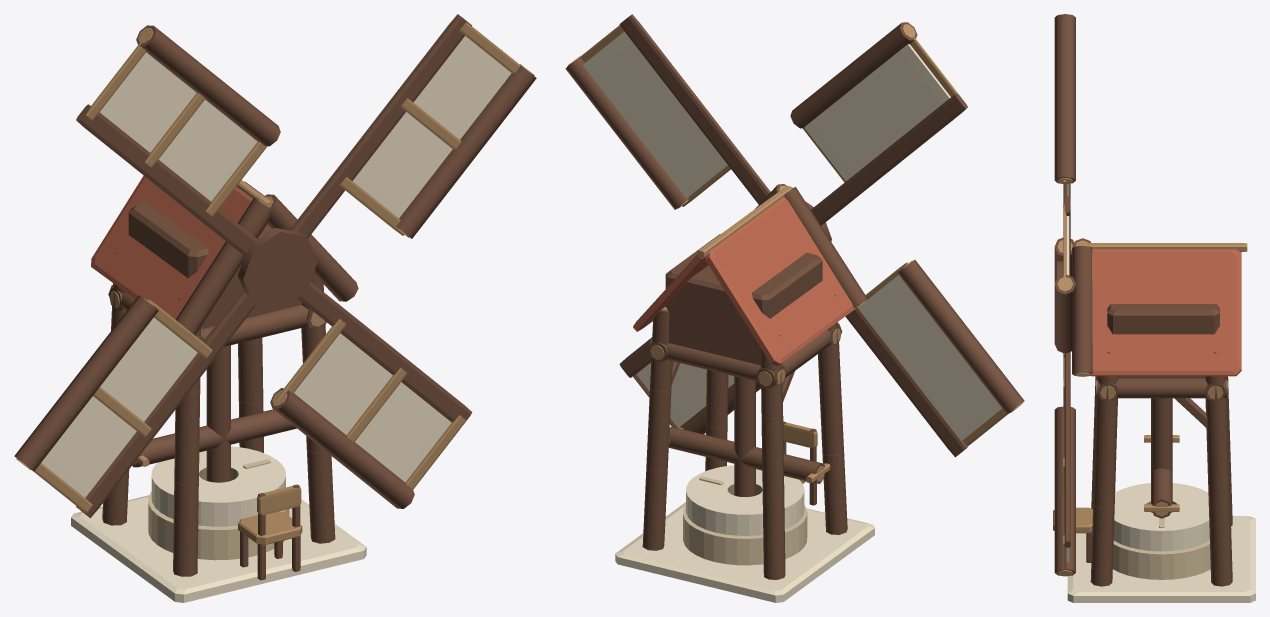
The model's file is windmill.glb.
The picture shows the model from 3 angles, left to right: view 1: azimuth 30°, elevation 25°; view 2: azimuth 150°, elevation 25°; view 3: azimuth 270°, elevation 25°; orthographic projection. The views are drawn at different scales.
Visible parts, largest first — view 1: LinenSail4, Floor, LinenSail, LinenSail3, LinenSail2, RoofSlope, GrindingStone, OuterFrame2, Spoke4, Hub, OuterFrame4, Post2 (+29 smaller); view 2: RoofSlope, LinenSail, LinenSail4, LinenSail2, Floor, GearHousing, GrindingStone, Post3, Post, Post2, OuterFrame2, Spoke4 (+17 smaller); view 3: RoofSlope2, Floor, GrindingStone, Post3, Post4, OuterFrame, GearHousing, Bedstone, OuterFrame3, GableRafter2, SideBeam2, OuterFrame4 (+9 smaller).
Boxes of the visible parts, x1,y1,x2,y2 form: LinenSail4: [352, 36, 511, 217]; Floor: [71, 495, 366, 602]; LinenSail: [100, 52, 257, 201]; LinenSail3: [294, 333, 451, 482]; LinenSail2: [41, 317, 197, 497]; RoofSlope: [91, 175, 252, 319]; GrindingStone: [151, 446, 285, 526]; OuterFrame2: [14, 295, 158, 471]; Spoke4: [289, 14, 472, 238]; Hub: [237, 227, 317, 309]; OuterFrame4: [396, 64, 536, 238]; Post2: [173, 298, 200, 576]; RoofSlope: [705, 197, 855, 365]; LinenSail: [804, 44, 950, 181]; LinenSail4: [583, 31, 727, 198]; LinenSail2: [858, 275, 1001, 441]; Floor: [615, 502, 874, 602]; GearHousing: [665, 234, 822, 365]; GrindingStone: [686, 465, 804, 535]; Post3: [642, 306, 672, 550]; Post: [760, 335, 785, 579]; Post2: [818, 294, 847, 534]; OuterFrame2: [897, 260, 1024, 414]; Spoke4: [619, 14, 770, 204]; RoofSlope2: [1090, 249, 1241, 376]; Floor: [1067, 516, 1255, 602]; GrindingStone: [1113, 483, 1209, 551]; Post3: [1205, 352, 1232, 586]; Post4: [1090, 352, 1118, 586]; OuterFrame: [1054, 14, 1075, 183]; GearHousing: [1107, 304, 1219, 378]; Bedstone: [1113, 540, 1210, 579]; OuterFrame3: [1054, 406, 1075, 576]; GableRafter2: [1072, 245, 1092, 376]; SideBeam2: [1096, 378, 1227, 398]; OuterFrame4: [1054, 274, 1075, 353].
Bounding box in the file's own units: 5.41 × 5.87 × 2.16.
